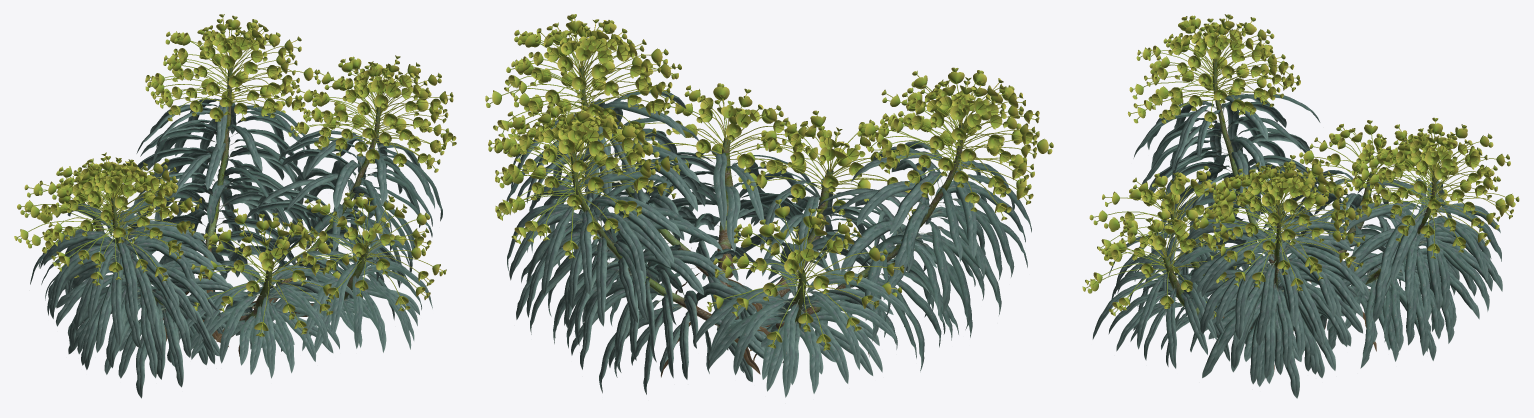
File: EuforbiaVariant3.glb
The picture shows the model from 3 angles, left to right: view 1: azimuth 30°, elevation 25°; view 2: azimuth 150°, elevation 25°; view 3: azimuth 270°, elevation 25°; orthographic projection. The views are drawn at different scales.
Parts seen in each view (by area): view 1: Euphorbia characias_03.002, Euphorbia characias_03.001, Euphorbia characias_03.003, Euphorbia characias_04.002, Euphorbia characias_04, Euphorbia characias_04.001; view 2: Euphorbia characias_03.001, Euphorbia characias_03.002, Euphorbia characias_03.003, Euphorbia characias_04.001, Euphorbia characias_04, Euphorbia characias_04.002; view 3: Euphorbia characias_03.003, Euphorbia characias_03.001, Euphorbia characias_03.002, Euphorbia characias_04, Euphorbia characias_04.002, Euphorbia characias_04.001.
Boxes of the visible parts, x1,y1,x2,y2 form: Euphorbia characias_03.002: [24, 152, 232, 398]; Euphorbia characias_03.001: [133, 14, 318, 338]; Euphorbia characias_03.003: [216, 55, 456, 356]; Euphorbia characias_04.002: [179, 208, 356, 378]; Euphorbia characias_04: [270, 192, 446, 352]; Euphorbia characias_04.001: [14, 166, 182, 315]; Euphorbia characias_03.001: [488, 100, 770, 394]; Euphorbia characias_03.002: [750, 67, 1053, 371]; Euphorbia characias_03.003: [485, 14, 767, 350]; Euphorbia characias_04.001: [695, 199, 909, 397]; Euphorbia characias_04: [623, 83, 831, 281]; Euphorbia characias_04.002: [719, 110, 916, 301]; Euphorbia characias_03.003: [1185, 155, 1369, 398]; Euphorbia characias_03.001: [1319, 117, 1519, 368]; Euphorbia characias_03.002: [1128, 14, 1325, 294]; Euphorbia characias_04: [1082, 204, 1250, 368]; Euphorbia characias_04.002: [1089, 166, 1274, 315]; Euphorbia characias_04.001: [1282, 120, 1451, 286].
Size of the model in its own units: 0.7223 by 0.4076 by 0.6375.
4 materials, 4 textured.
